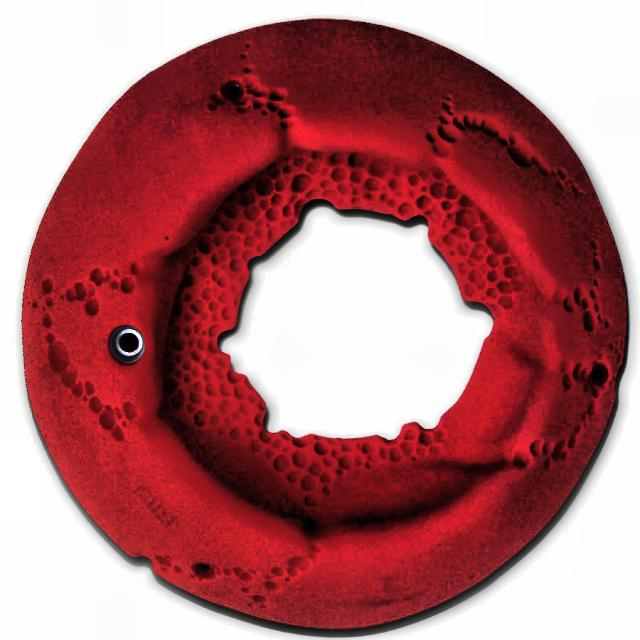Hold: (27, 20, 615, 631)
